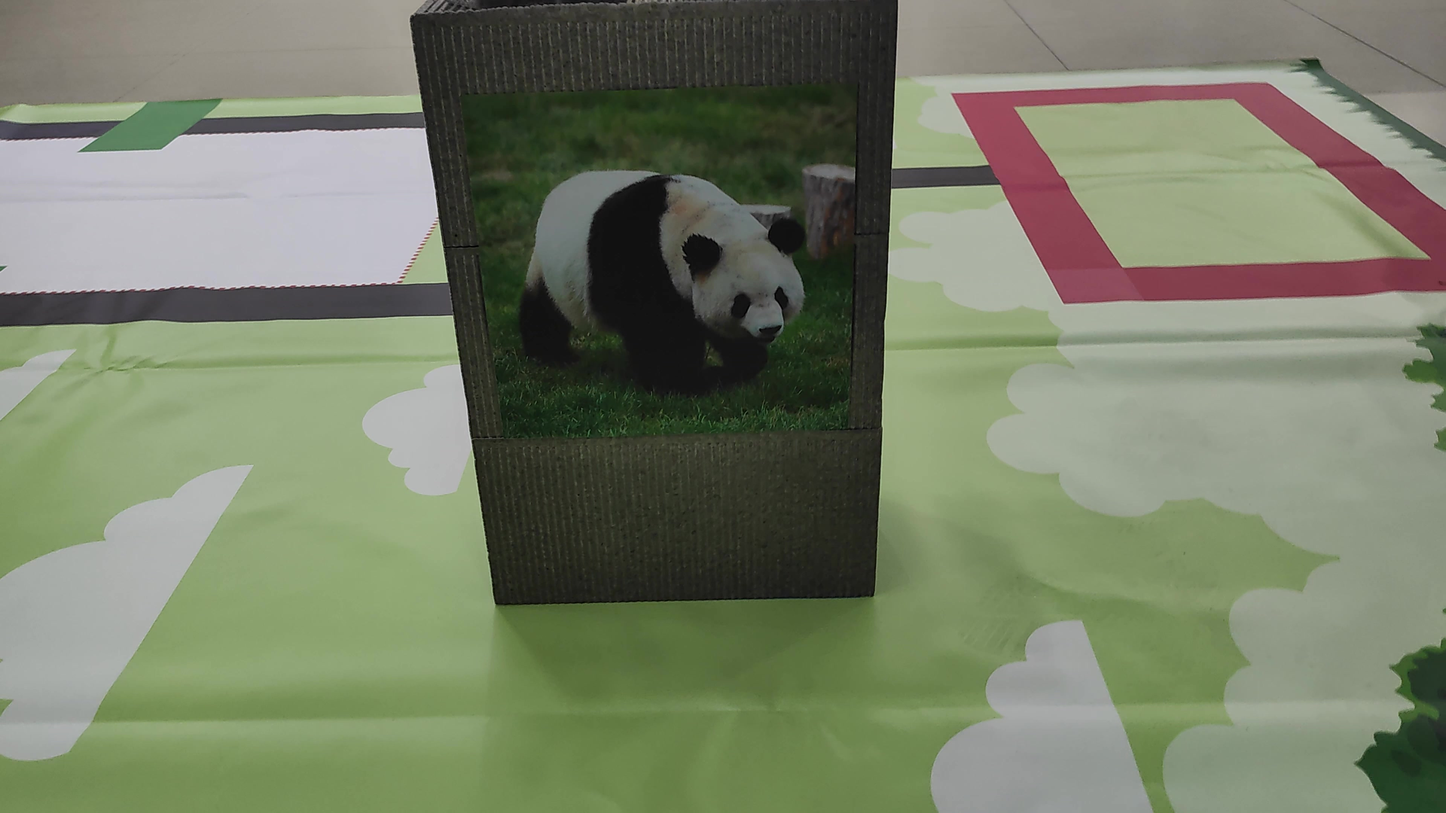panda: (516, 155, 821, 413)
